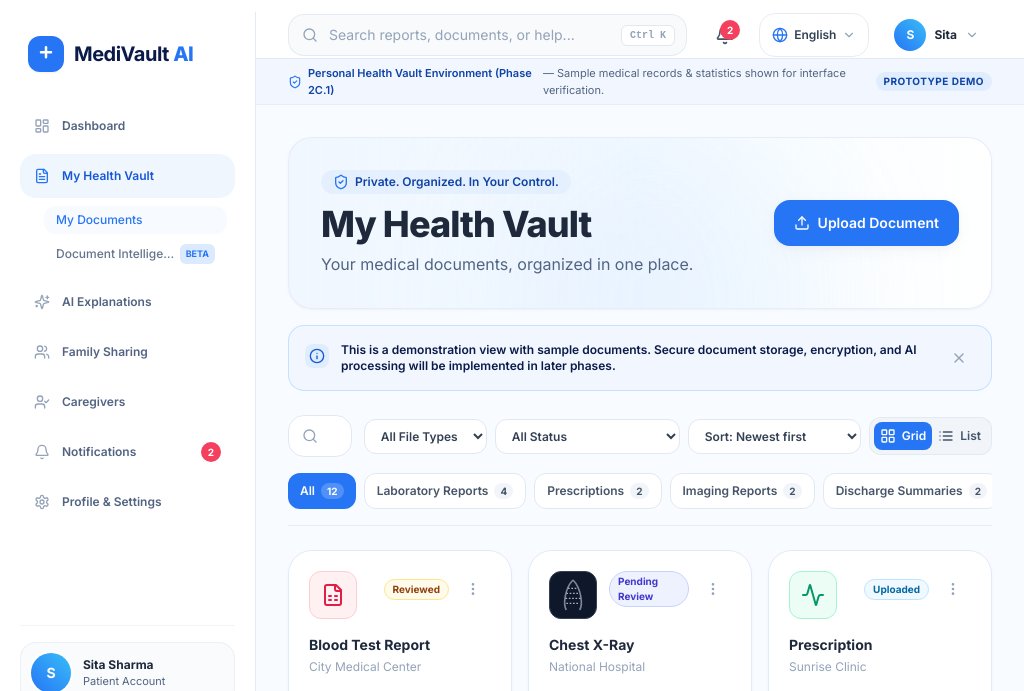
Scenario: MediVault AI — Phase 2C.1 Personal Health Vault Frontend Suite › 6. toggles between Grid and List view presentation modes
The image size is (1024, 691).
// Switch to List view
Click the button named "List view": (960, 436) x1=932 y1=422 x2=987 y2=450
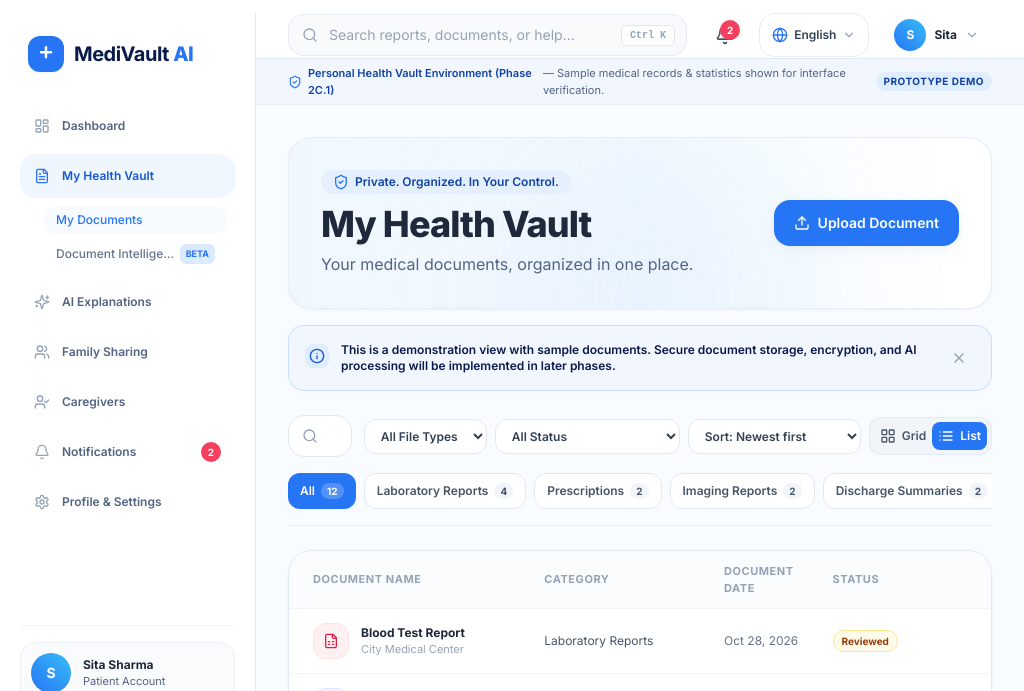
Expected: the column heading "Document Name" is shown, x1=289 y1=551 x2=528 y2=608
Expected: the column heading "Document Date" is shown, x1=708 y1=551 x2=816 y2=608
